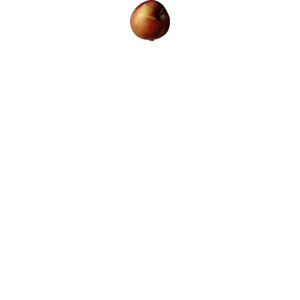maçã braeburn: (127, 1, 172, 43)
